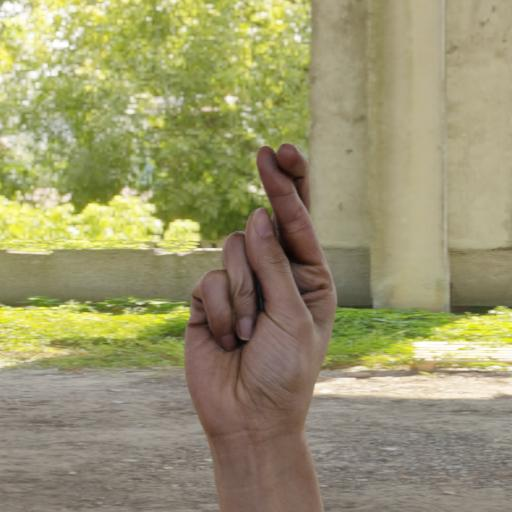R: (162, 129, 345, 512)
